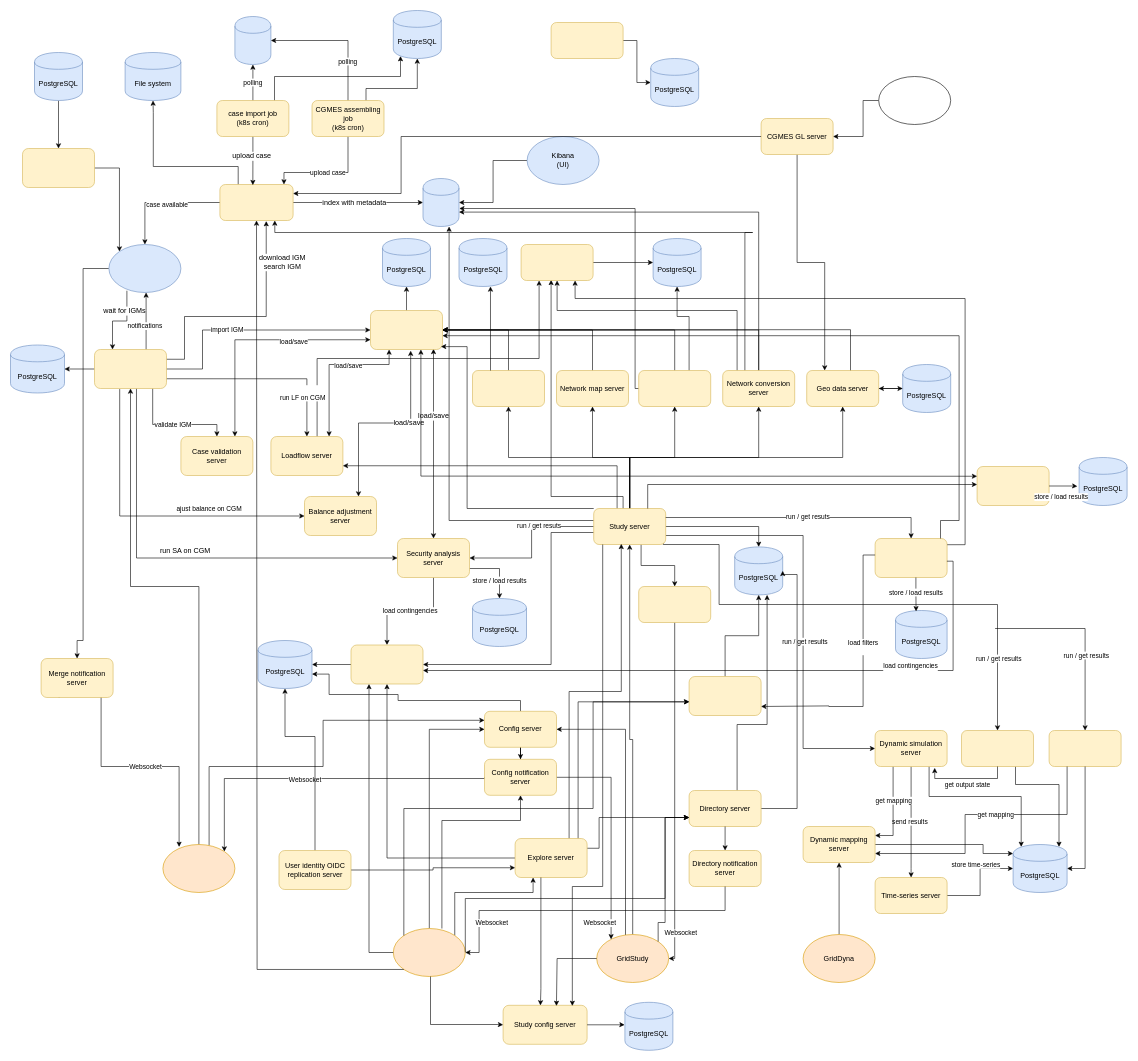
This 1138x1061 diagram has some shape labels left out. Here are the shapes that lost their labels. From the top down, the centre of each, then its label:
point 252,40: FTP
point 586,40: User admin server
point 914,100: Geo data app (UI)
point 58,168: CGMES boundary server
point 256,202: Case server
point 440,202: Elastic search
point 144,268: Rabbit MQ
point 556,262: Report server
point 406,330: Network store server
point 130,368: Merge orchestration server
point 508,388: Single line diagram server
point 674,388: Network modification server
point 1012,486: Shortcircuit server
point 910,558: Sensitivity analysis server
point 674,604: Study notification server
point 386,664: Actions server
point 724,696: Filter server
point 997,748: Dynamic security analysis server
point 1084,748: Dynamic margin calculation server
point 198,868: GridMerge
point 429,952: GridExplore
